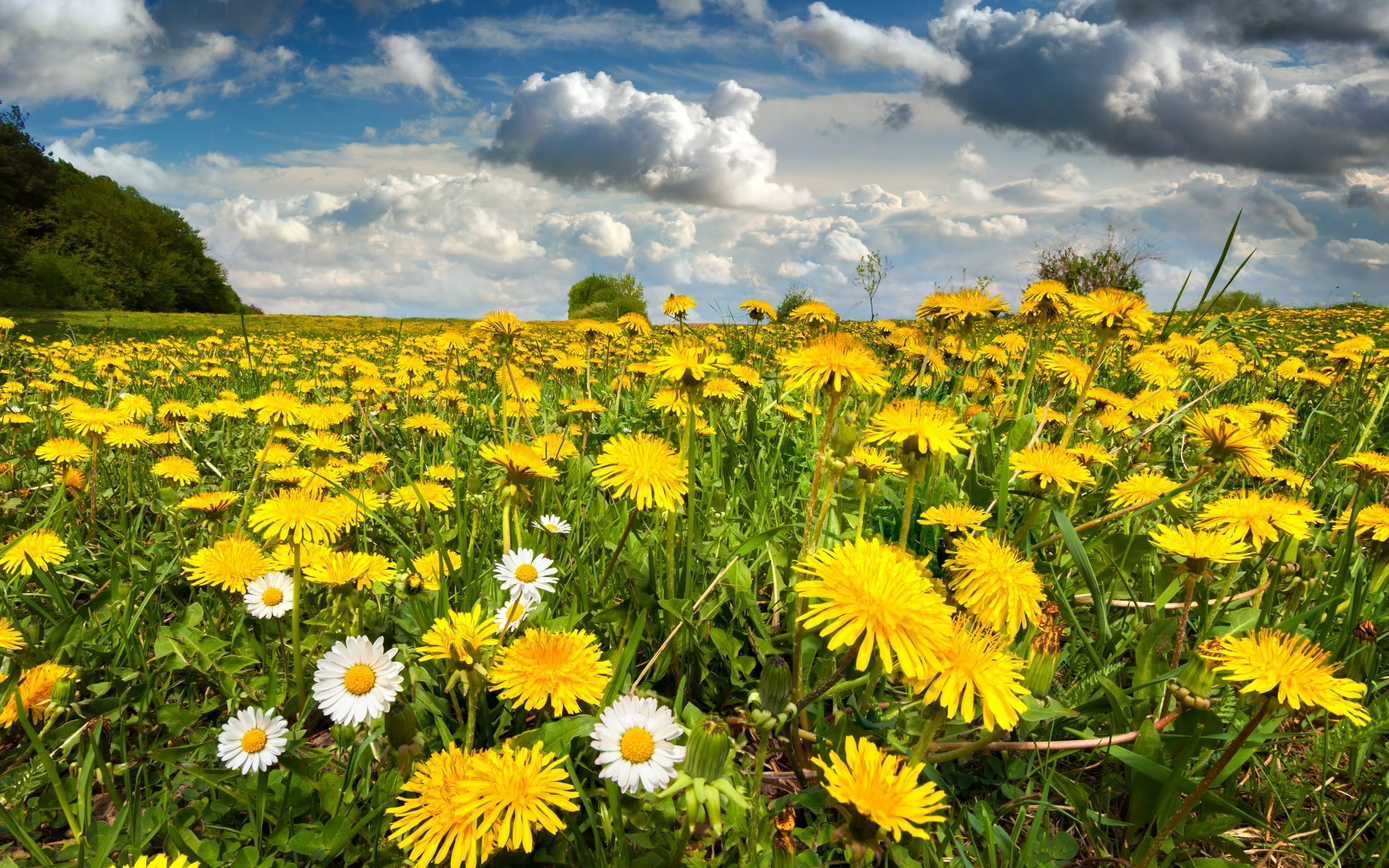begonvil: (777, 531, 957, 688), (1211, 610, 1389, 756), (392, 736, 582, 868), (809, 721, 974, 854), (911, 616, 1046, 736), (488, 618, 623, 725), (1195, 483, 1331, 573), (949, 533, 1048, 656), (781, 326, 902, 418), (597, 422, 696, 524), (1184, 399, 1280, 494), (871, 393, 976, 474), (1005, 438, 1104, 513), (472, 426, 562, 508), (1072, 275, 1159, 355), (1148, 518, 1261, 578), (242, 484, 344, 550), (414, 595, 500, 672), (3, 664, 84, 742), (187, 516, 262, 588), (927, 281, 1012, 340), (649, 333, 723, 395), (394, 469, 469, 530), (3, 526, 73, 591), (1107, 466, 1192, 517), (483, 296, 533, 379), (301, 548, 379, 596), (1039, 346, 1102, 404), (1017, 276, 1076, 332), (929, 501, 998, 544), (32, 427, 90, 474), (95, 418, 162, 455), (300, 397, 361, 436), (145, 453, 207, 491), (248, 388, 305, 429), (794, 290, 843, 336), (568, 319, 618, 364), (180, 484, 247, 517), (1336, 446, 1389, 487), (397, 407, 453, 443), (68, 399, 126, 433), (700, 376, 745, 418), (119, 385, 159, 426), (660, 290, 704, 324), (738, 298, 777, 333), (255, 438, 302, 467), (622, 309, 647, 358), (351, 371, 393, 400), (159, 393, 191, 428)
